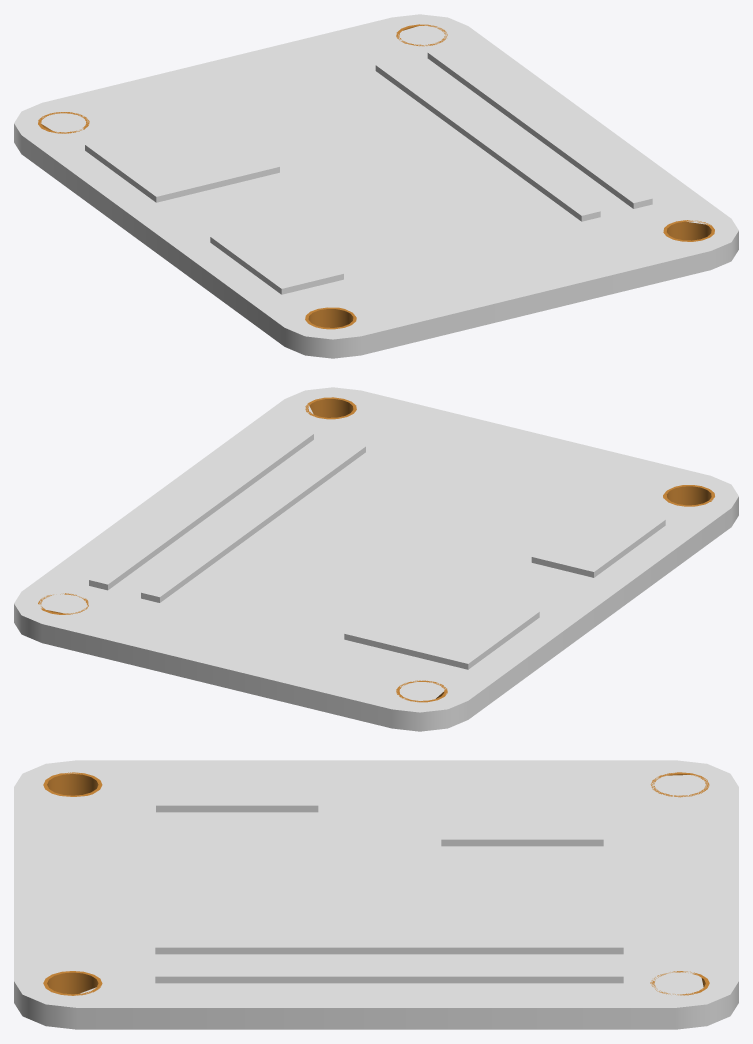
Rendered from CircuitBoard.fbx.
3 renders of one model, top to bottom at view 1: azimuth 30°, elevation 25°; view 2: azimuth 150°, elevation 25°; view 3: azimuth 270°, elevation 25°, orthographic. The views are drawn at different scales.
Parts seen in each view (by area): view 1: CircuitBoard; view 2: CircuitBoard; view 3: CircuitBoard.
Part boxes in pixels (x1,y1,x2,y2): CircuitBoard: (14,14,738,358); CircuitBoard: (14,387,738,731); CircuitBoard: (14,760,738,1029).
Bounding box in the file's own units: 59.89 × 3.2 × 74.07.
